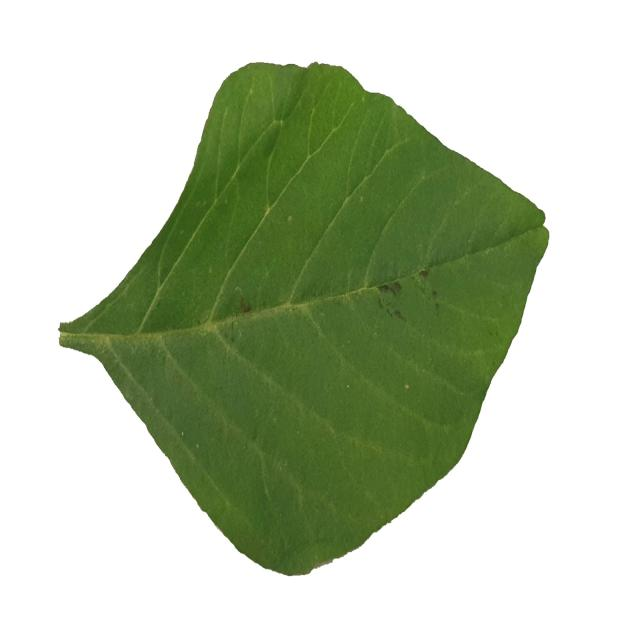Medicinal-Arive Dantu: (60, 55, 551, 577)
